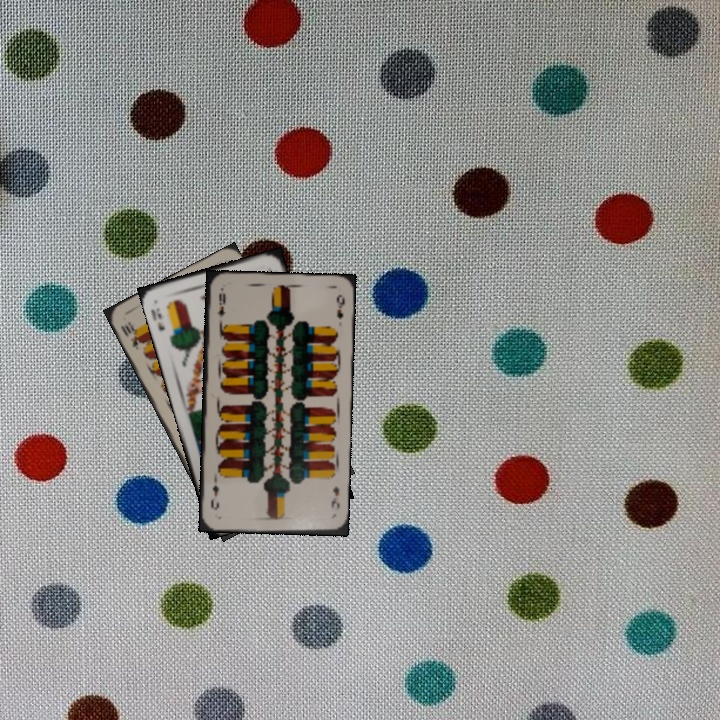E10: (116, 317, 145, 352)
E9: (213, 289, 228, 320), (327, 483, 342, 511)
EK: (147, 304, 167, 333)
